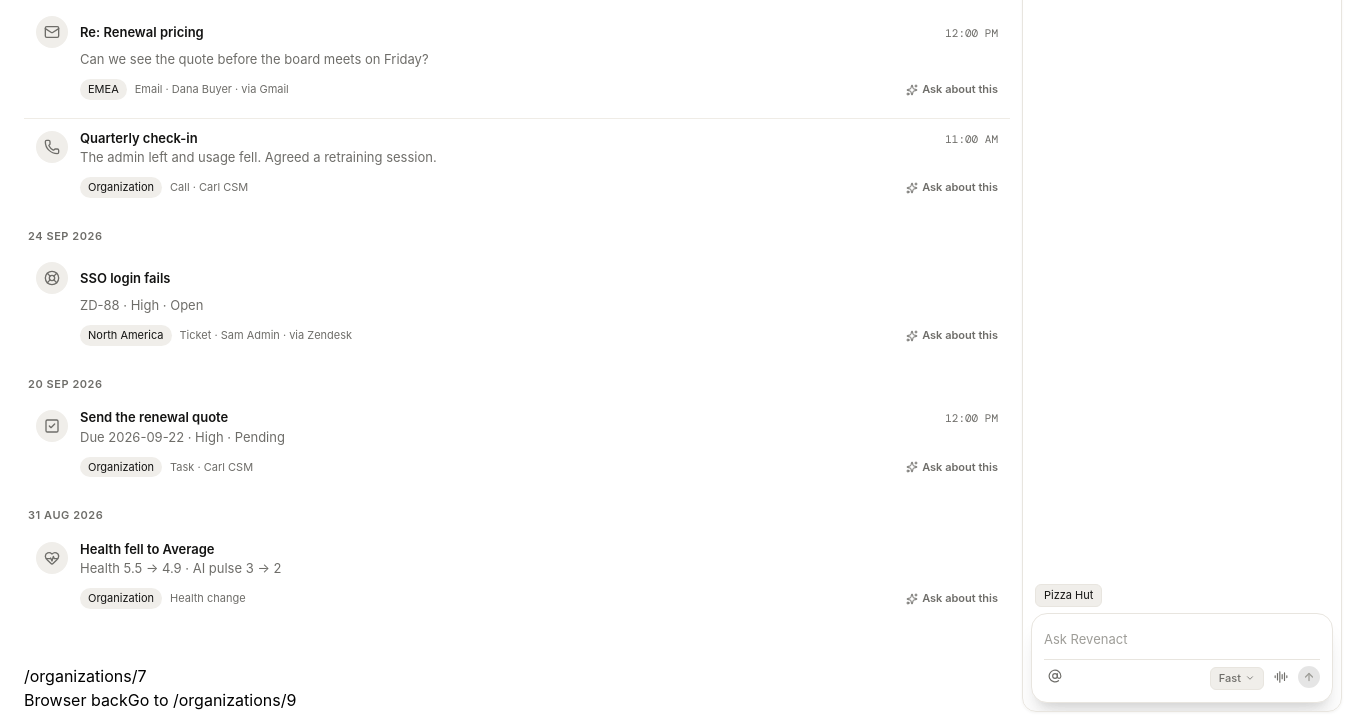
it: Ask Revenact on the organisation page › clears a refusal once the person moves to another organisation, even in the same conversation
(page scrolled)
Type "What changed?" into the field with placeholder "Ask Revenact". click: coordinates (1182, 639)
box: [1044,628,1320,651]
Then press Enter
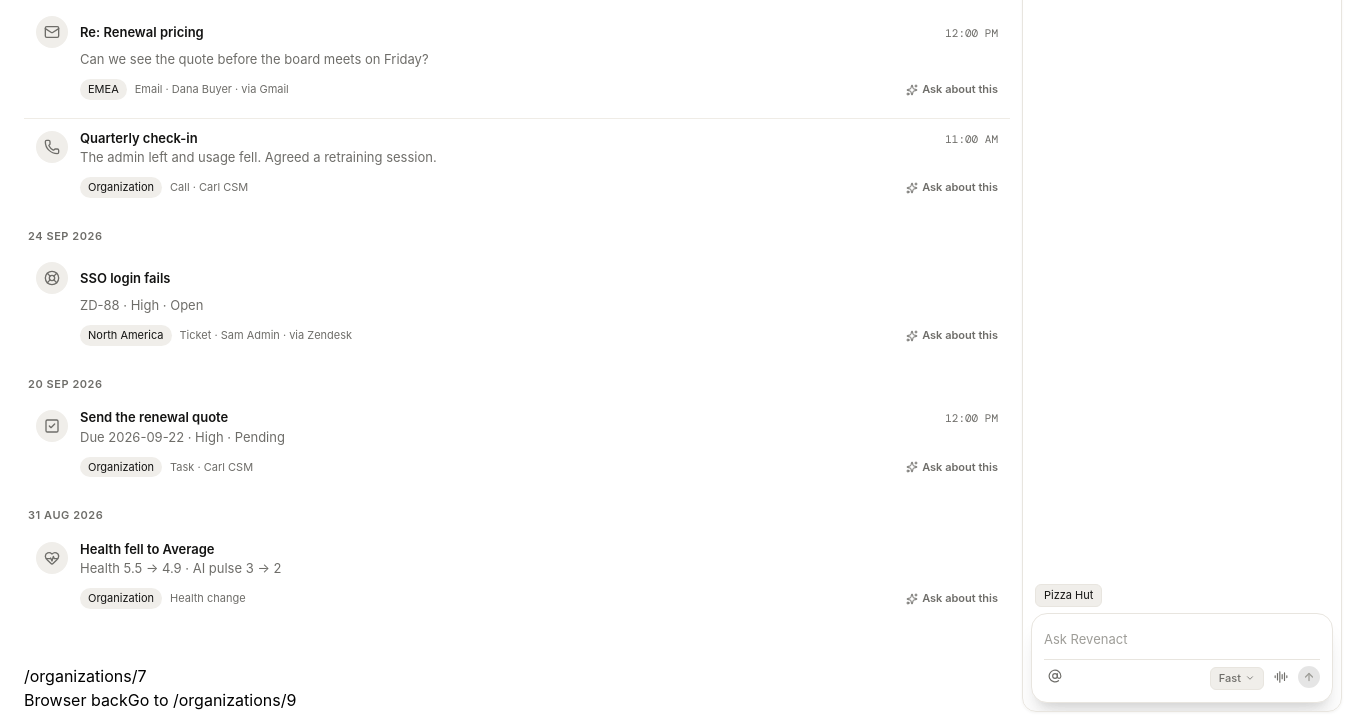
Click the link "Go to /organizations/9". click: coordinates (150, 700)
box: [128,690,296,710]
(page scrolled)
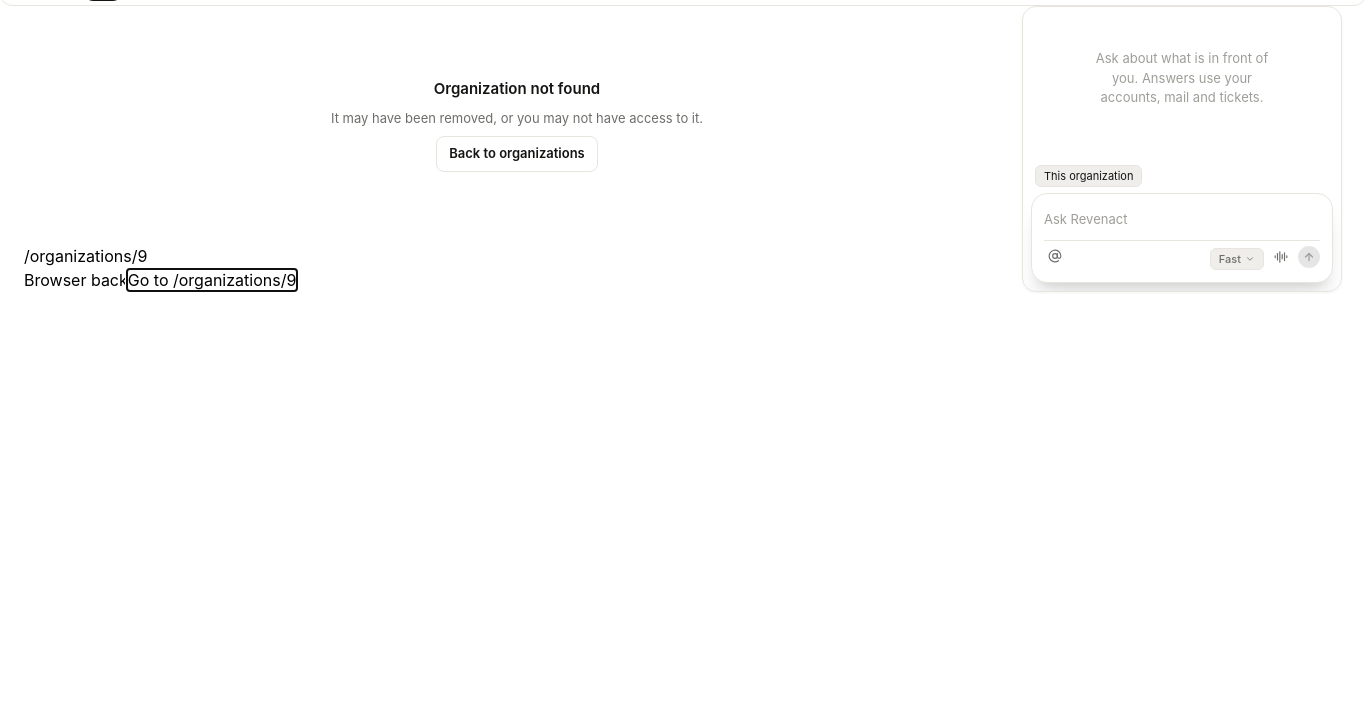
Expected: the text "Organization not found" is shown, [434,78,600,100]
